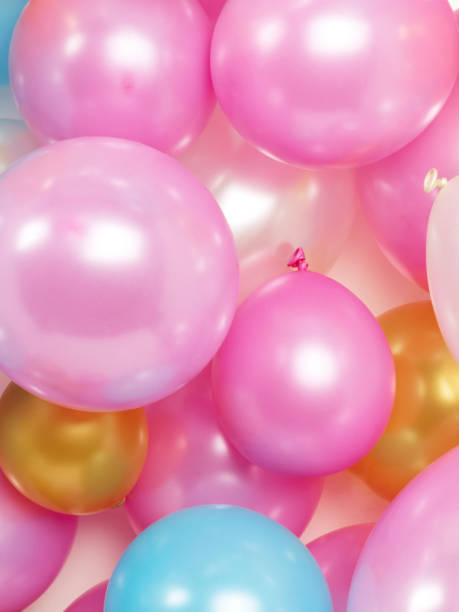Balloon: (1, 138, 239, 409), (208, 1, 459, 164), (212, 271, 397, 474), (7, 1, 211, 154), (105, 505, 332, 612)
